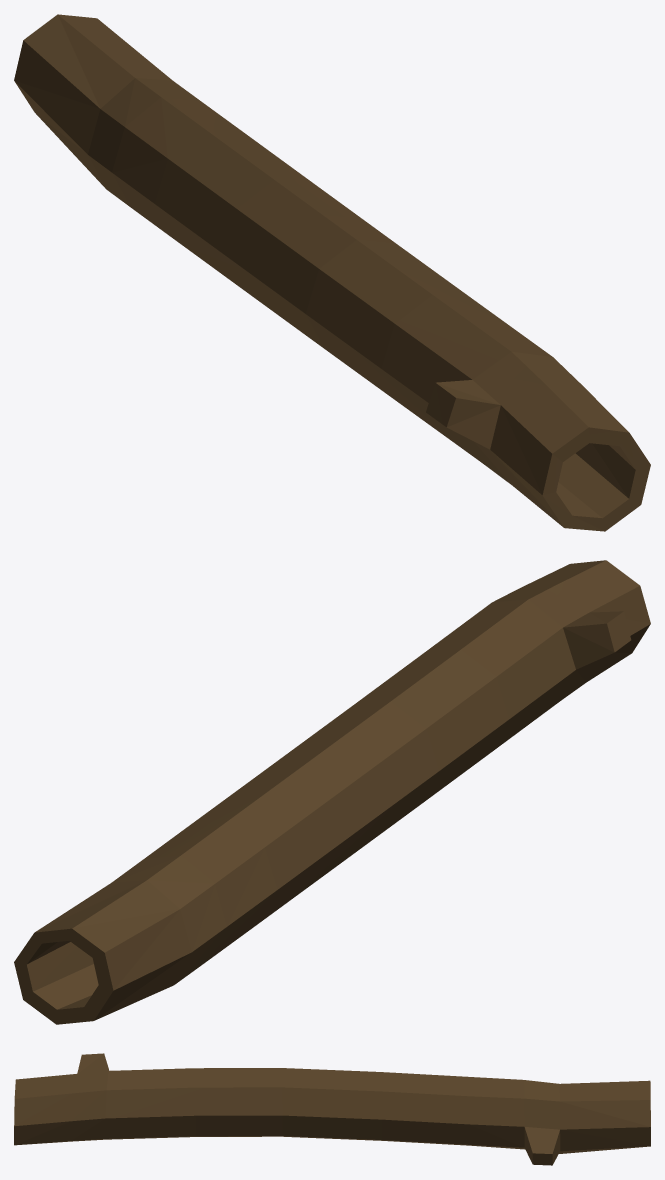
File: Stump_09.fbx
The picture shows the model from 3 angles, top to bottom: view 1: azimuth 30°, elevation 25°; view 2: azimuth 150°, elevation 25°; view 3: azimuth 270°, elevation 25°; orthographic projection. The views are drawn at different scales.
Visible parts, largest first — view 1: Stump_09; view 2: Stump_09; view 3: Stump_09.
Boxes of the visible parts, x1,y1,x2,y2 form: Stump_09: (14, 14, 650, 531); Stump_09: (14, 560, 650, 1024); Stump_09: (14, 1053, 650, 1165).
Size of the model in its own units: 39.48 by 25.43 by 188.
